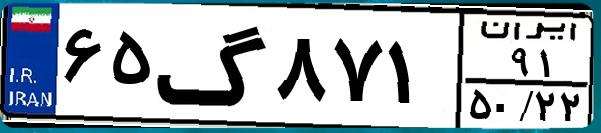0: (495, 70, 520, 125)
1: (385, 28, 445, 110), (537, 27, 568, 80)
2: (560, 70, 590, 125), (535, 70, 560, 125)
5: (110, 28, 156, 98), (470, 70, 495, 125)
6: (57, 26, 110, 100)
7: (330, 28, 385, 110)
8: (270, 28, 330, 110)
9: (508, 27, 537, 80)
گ: (156, 12, 270, 120)
